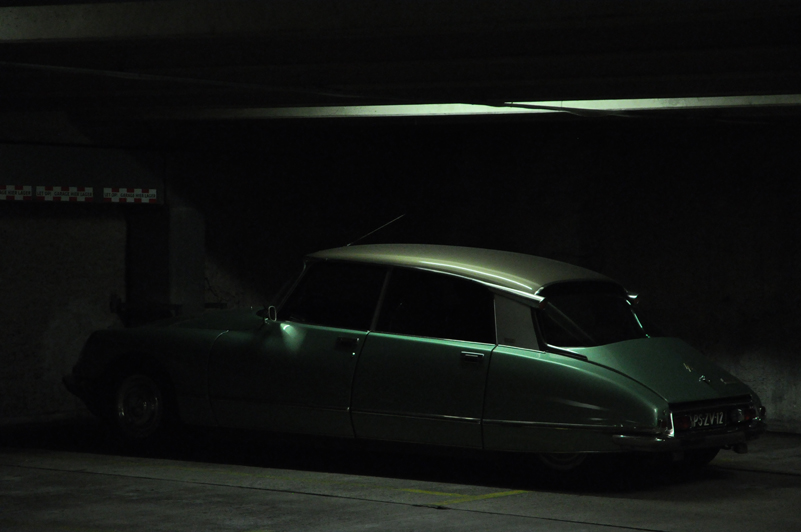car: (53, 212, 783, 495)
